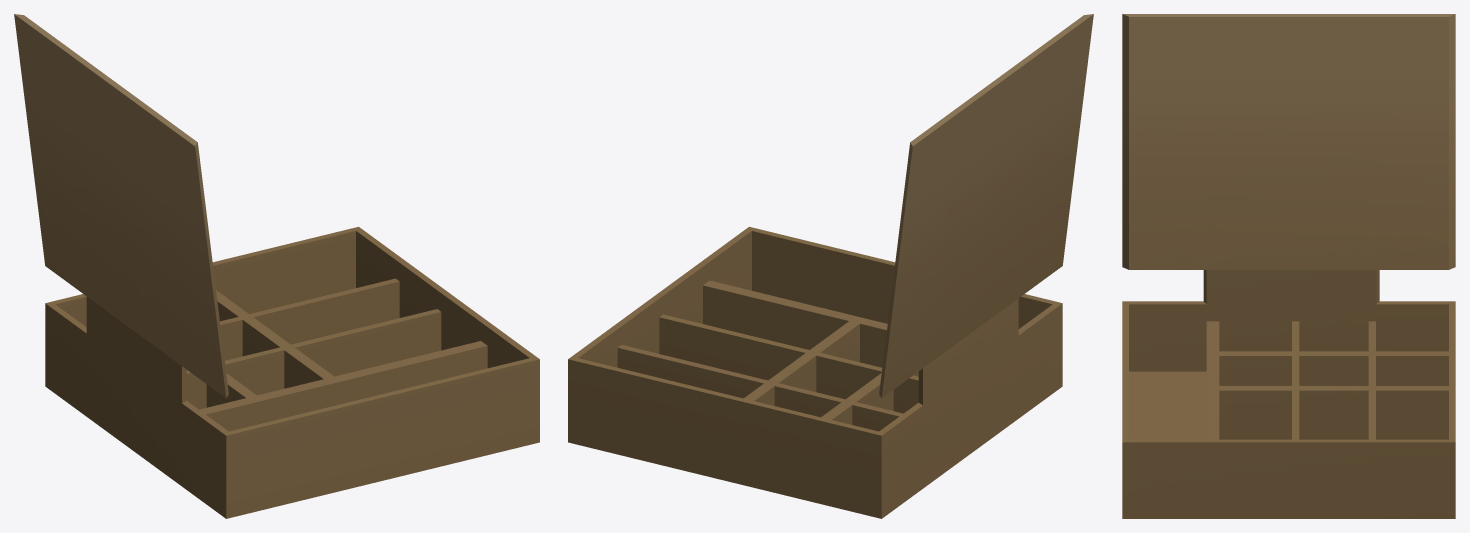
File: boite à bijoux.fbx
The picture shows the model from 3 angles, left to right: view 1: azimuth 30°, elevation 25°; view 2: azimuth 150°, elevation 25°; view 3: azimuth 270°, elevation 25°; orthographic projection. The views are drawn at different scales.
Parts seen in each view (by area): view 1: Cube.042; view 2: Cube.042; view 3: Cube.042.
Part boxes in pixels (left/top/right/bottom): Cube.042: left=14, top=14, right=539, bottom=518; Cube.042: left=568, top=14, right=1093, bottom=518; Cube.042: left=1122, top=14, right=1455, bottom=518.
Size of the model in its own units: 44.63 by 40.6 by 47.01.
